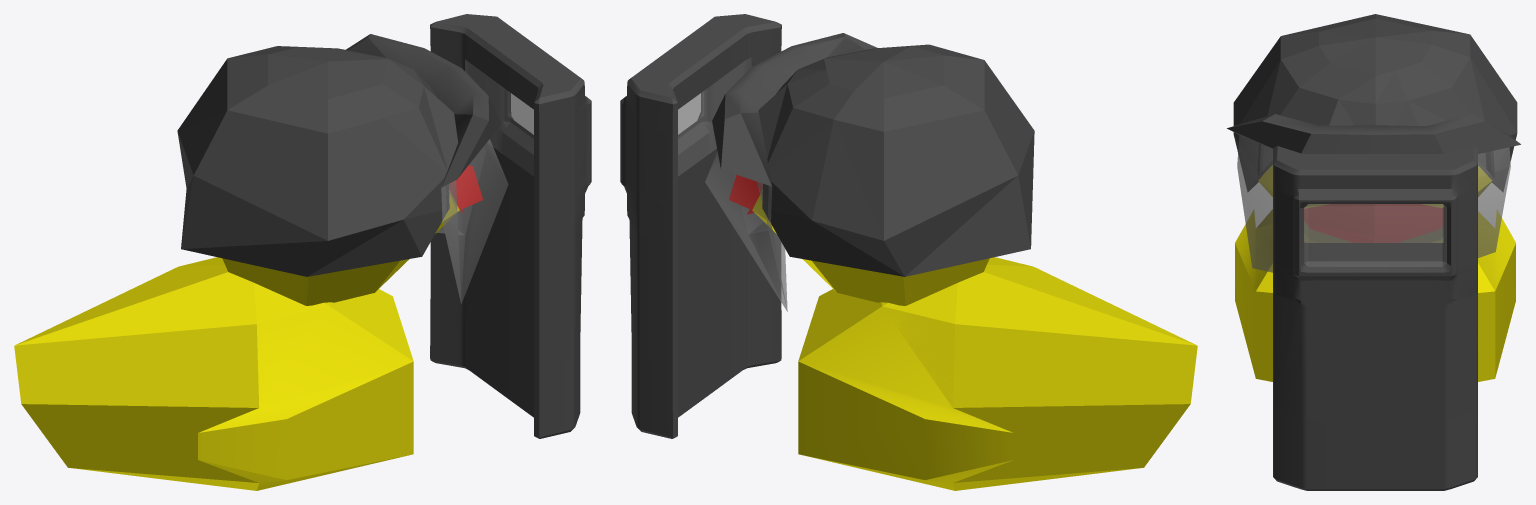
File: TankAhiru.fbx
3 renders of one model, left to right at view 1: azimuth 30°, elevation 25°; view 2: azimuth 150°, elevation 25°; view 3: azimuth 270°, elevation 25°, orthographic. The views are drawn at different scales.
Parts seen in each view (by area): view 1: pSphere1, polySurface4, pCube1, polySurface5, polySurface3; view 2: pSphere1, polySurface4, pCube1, polySurface5, polySurface3; view 3: pCube1, polySurface4, polySurface5, pSphere1, polySurface3.
Part boxes in pixels (x1,y1,x2,y2): pSphere1: (14,257,413,490); polySurface4: (177,46,458,276); pCube1: (430,14,591,438); polySurface5: (346,34,508,304); polySurface3: (222,165,482,305); pSphere1: (798,257,1197,490); polySurface4: (758,44,1034,276); pCube1: (620,14,781,438); polySurface5: (705,33,877,311); polySurface3: (729,175,989,305); pCube1: (1273,146,1477,490); polySurface4: (1233,14,1517,191); polySurface5: (1227,113,1520,272); pSphere1: (1235,209,1515,381); polySurface3: (1258,165,1491,242).
Bounding box in the file's own units: 4.62 × 3.11 × 2.34.
